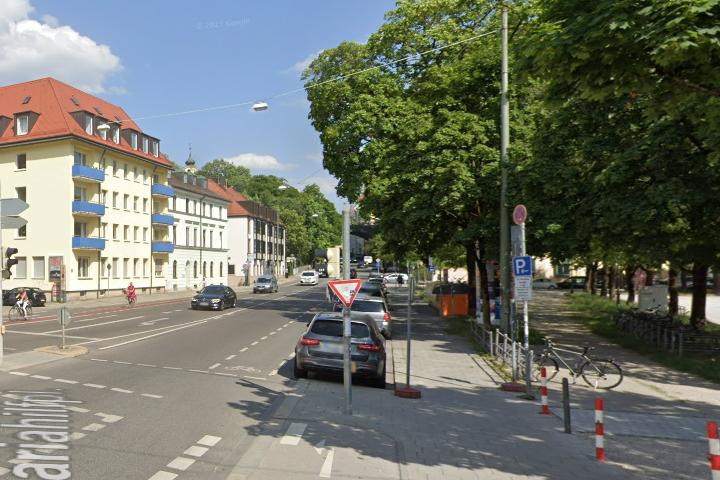traffic_sign: (328, 277, 364, 308), (513, 255, 532, 277), (512, 205, 527, 224)
vehicle: (294, 310, 389, 390), (188, 282, 239, 313), (250, 273, 280, 295), (297, 268, 320, 285)
